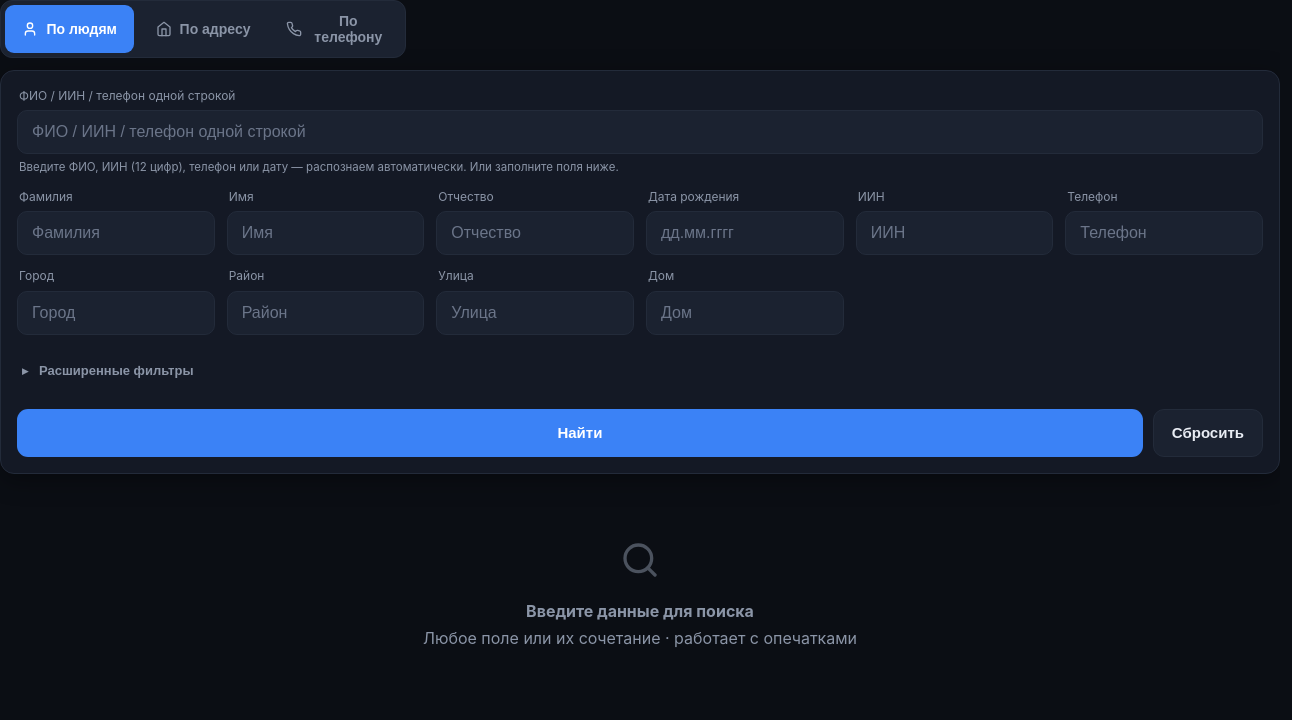
it: SearchPage › находит запись с подсветкой и бейджем fuzzy
Type "Сыздыкова" into the field with placeholder "ФИО / ИИН / телефон одной строкой" at (640, 132), box [17,110,1263,154]
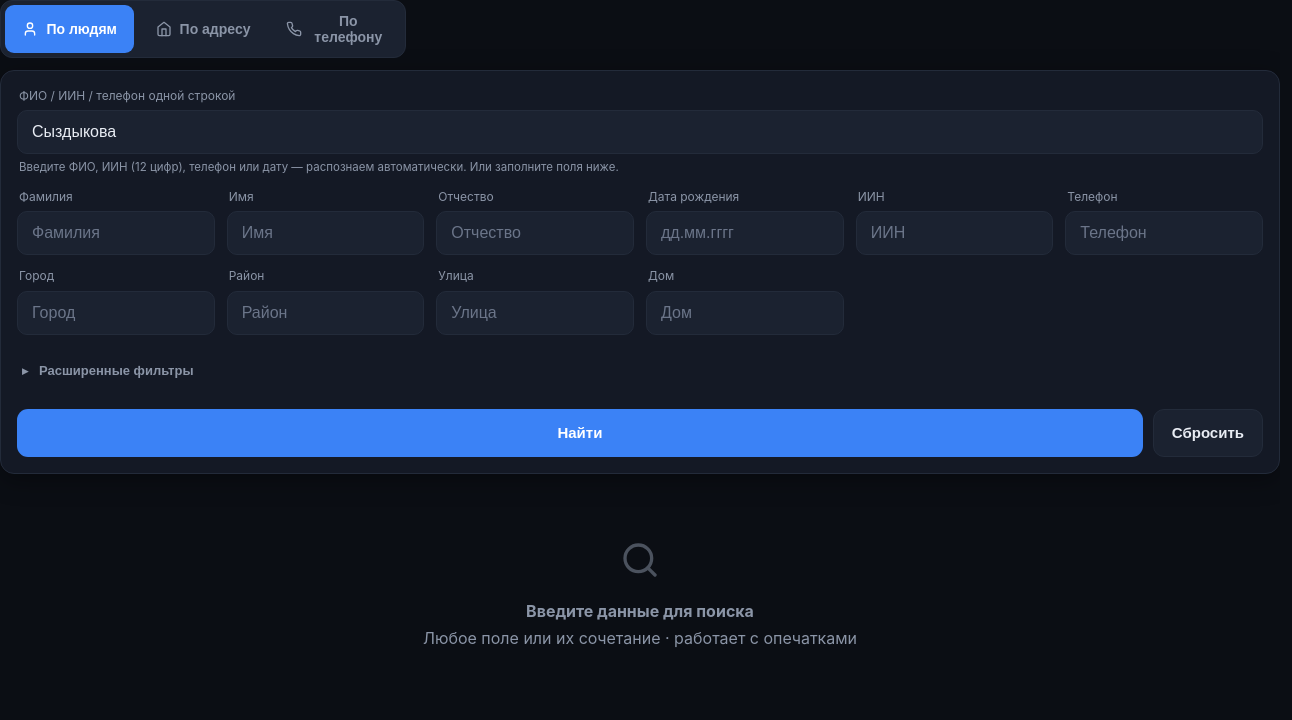
Click the button "Найти" at (580, 433), box [17,409,1143,457]
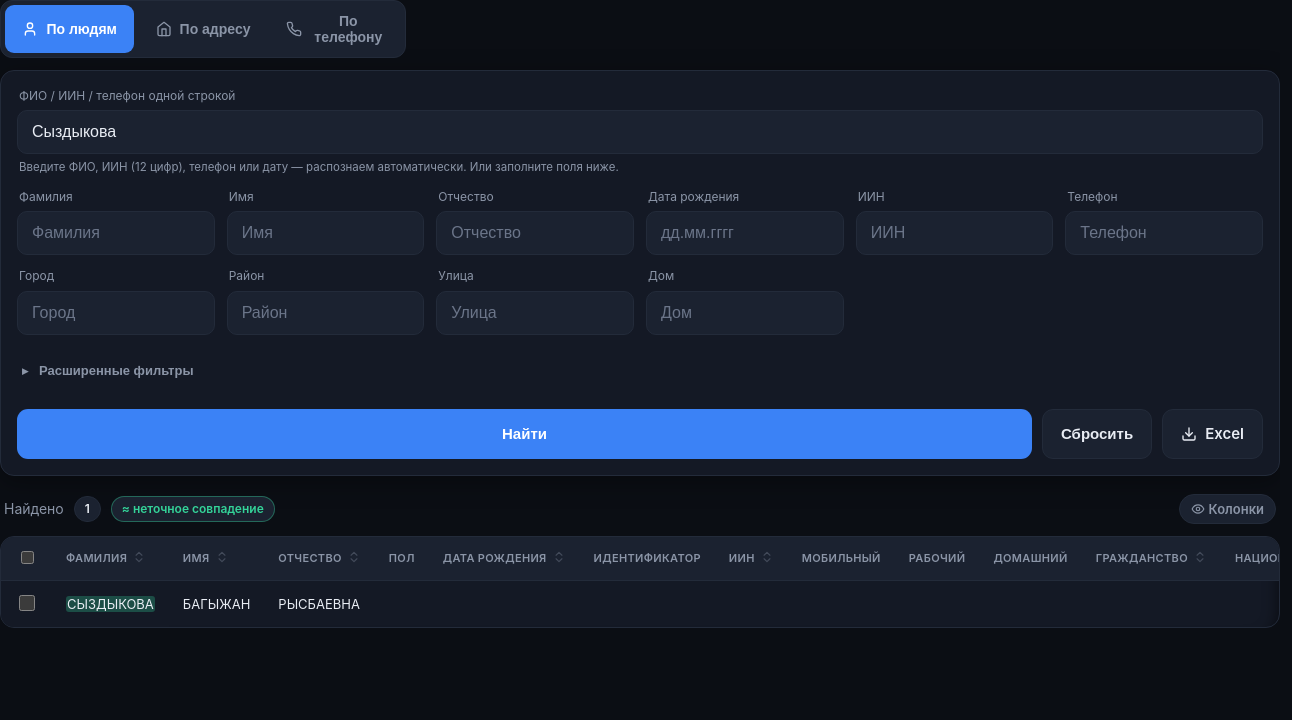
Check: the text "Найдено 1 ≈ неточное совпадение Колонки" is shown, box [4,494,1276,524]
Check: the text "≈ неточное совпадение" is shown, box [111,496,275,522]
Check: the text "СЫЗДЫКОВА" is shown, box [66,596,155,612]
